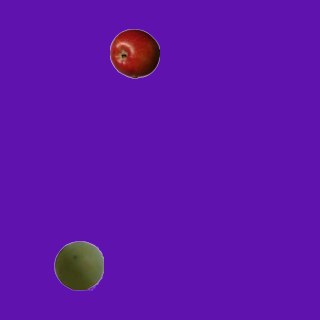Apple Braeburn: (109, 28, 159, 78)
Grape White 4: (53, 240, 103, 290)
